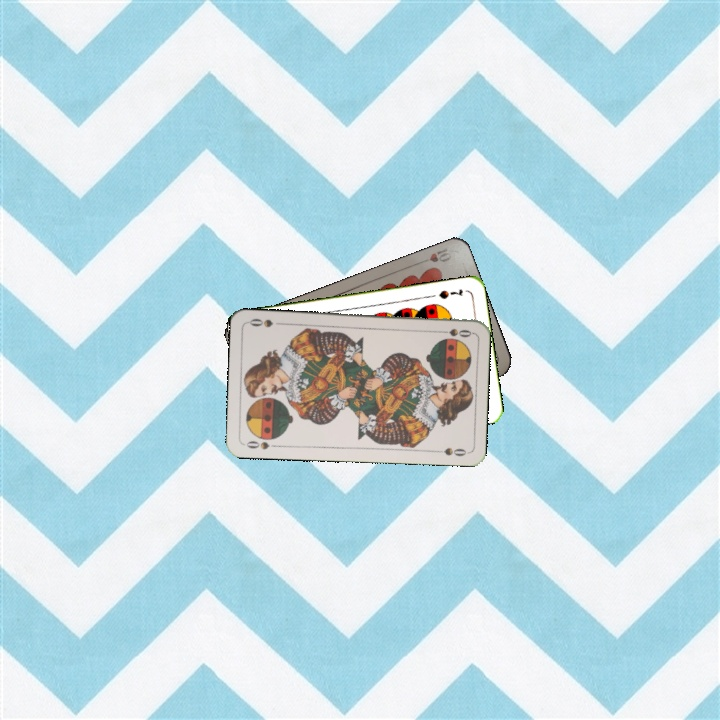H10: (415, 244, 454, 267)
S7: (435, 285, 465, 302)
SO: (433, 325, 474, 340), (240, 437, 281, 452)
